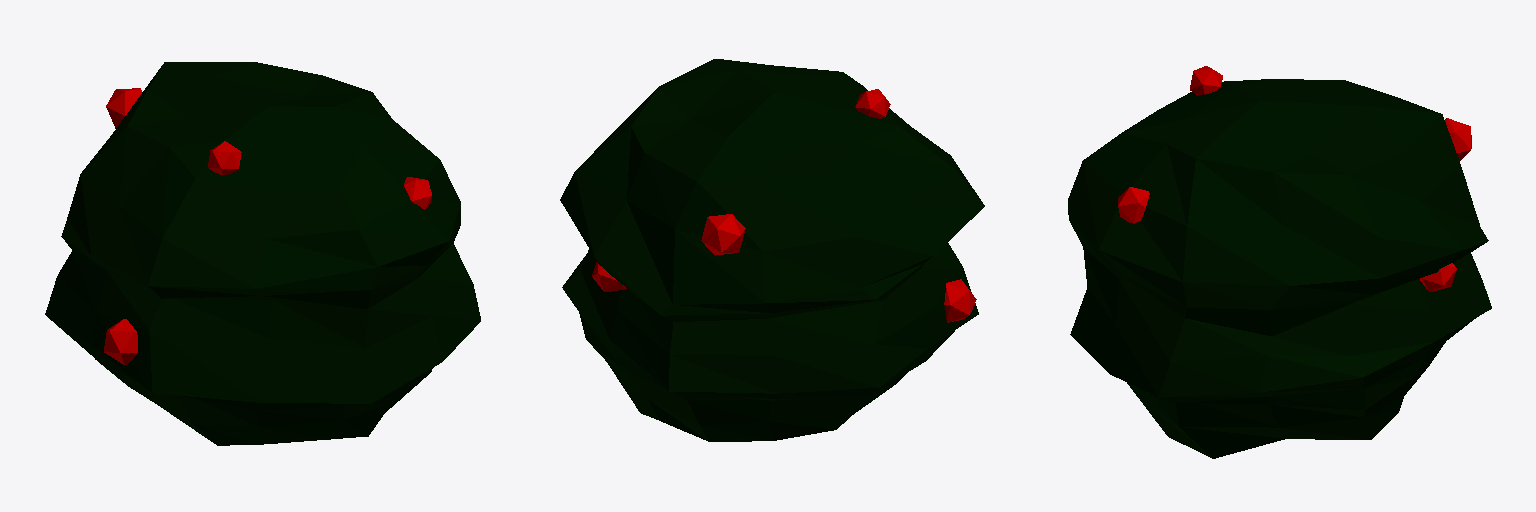
The model's file is bush_berries_1.obj.
3 renders of one model, left to right at view 1: azimuth 30°, elevation 25°; view 2: azimuth 150°, elevation 25°; view 3: azimuth 270°, elevation 25°, orthographic.
Parts seen in each view (by area): view 1: bush_berries_1; view 2: bush_berries_1; view 3: bush_berries_1.
Part boxes in pixels (bbox=[...]): bush_berries_1: bbox=[45, 62, 480, 445]; bush_berries_1: bbox=[560, 59, 984, 441]; bush_berries_1: bbox=[1068, 66, 1491, 458].
Size of the model in its own units: 1 by 0.8475 by 1.04.